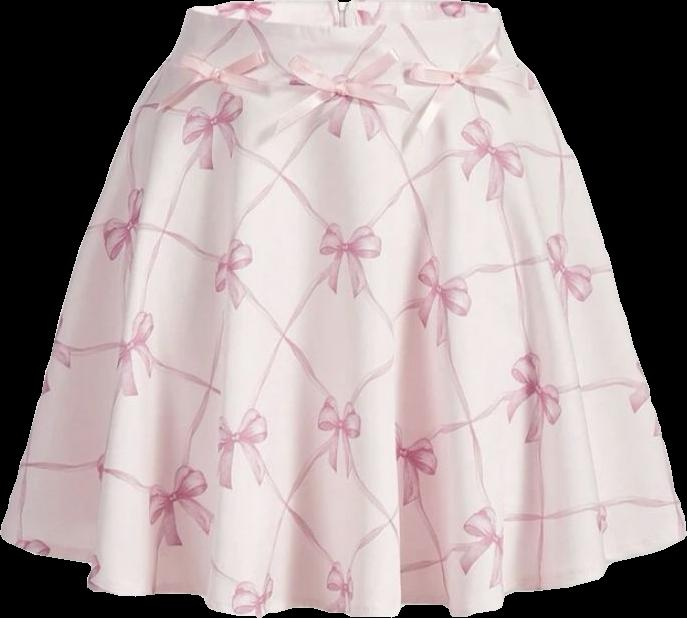Hemline: (0, 528, 686, 617)
Waistline: (167, 49, 520, 87), (187, 2, 497, 34)
